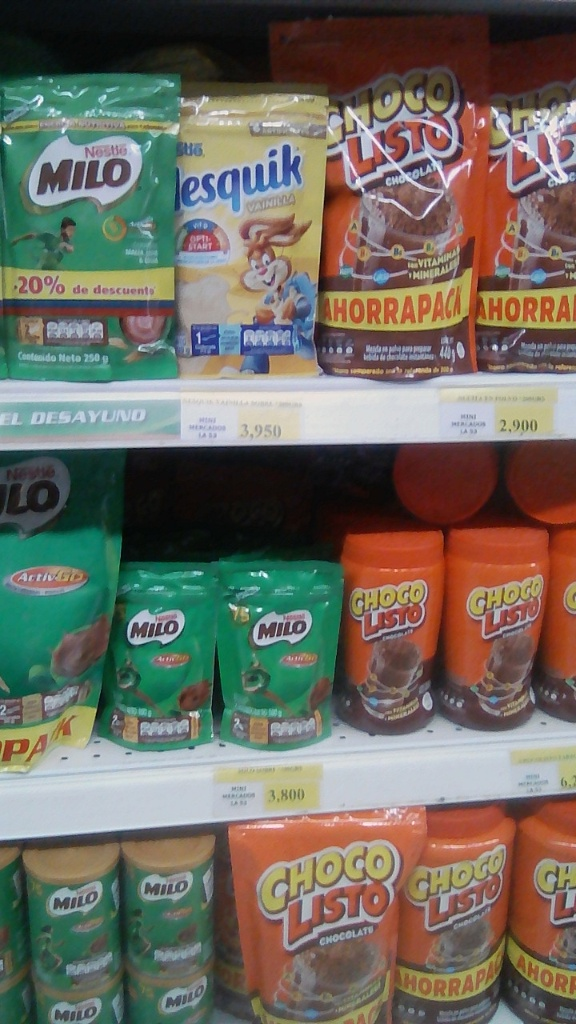COL0170103DYP44000: (295, 17, 481, 380)
COL0170103TRR00100: (505, 796, 576, 1024)
COL0170203LAT20000: (118, 826, 214, 978)
COL0170306DYP20000: (175, 75, 338, 375)
